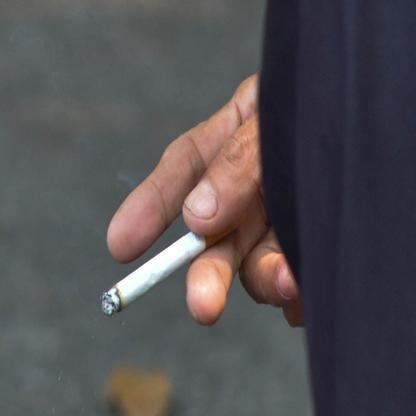trash: (98, 223, 239, 317)
